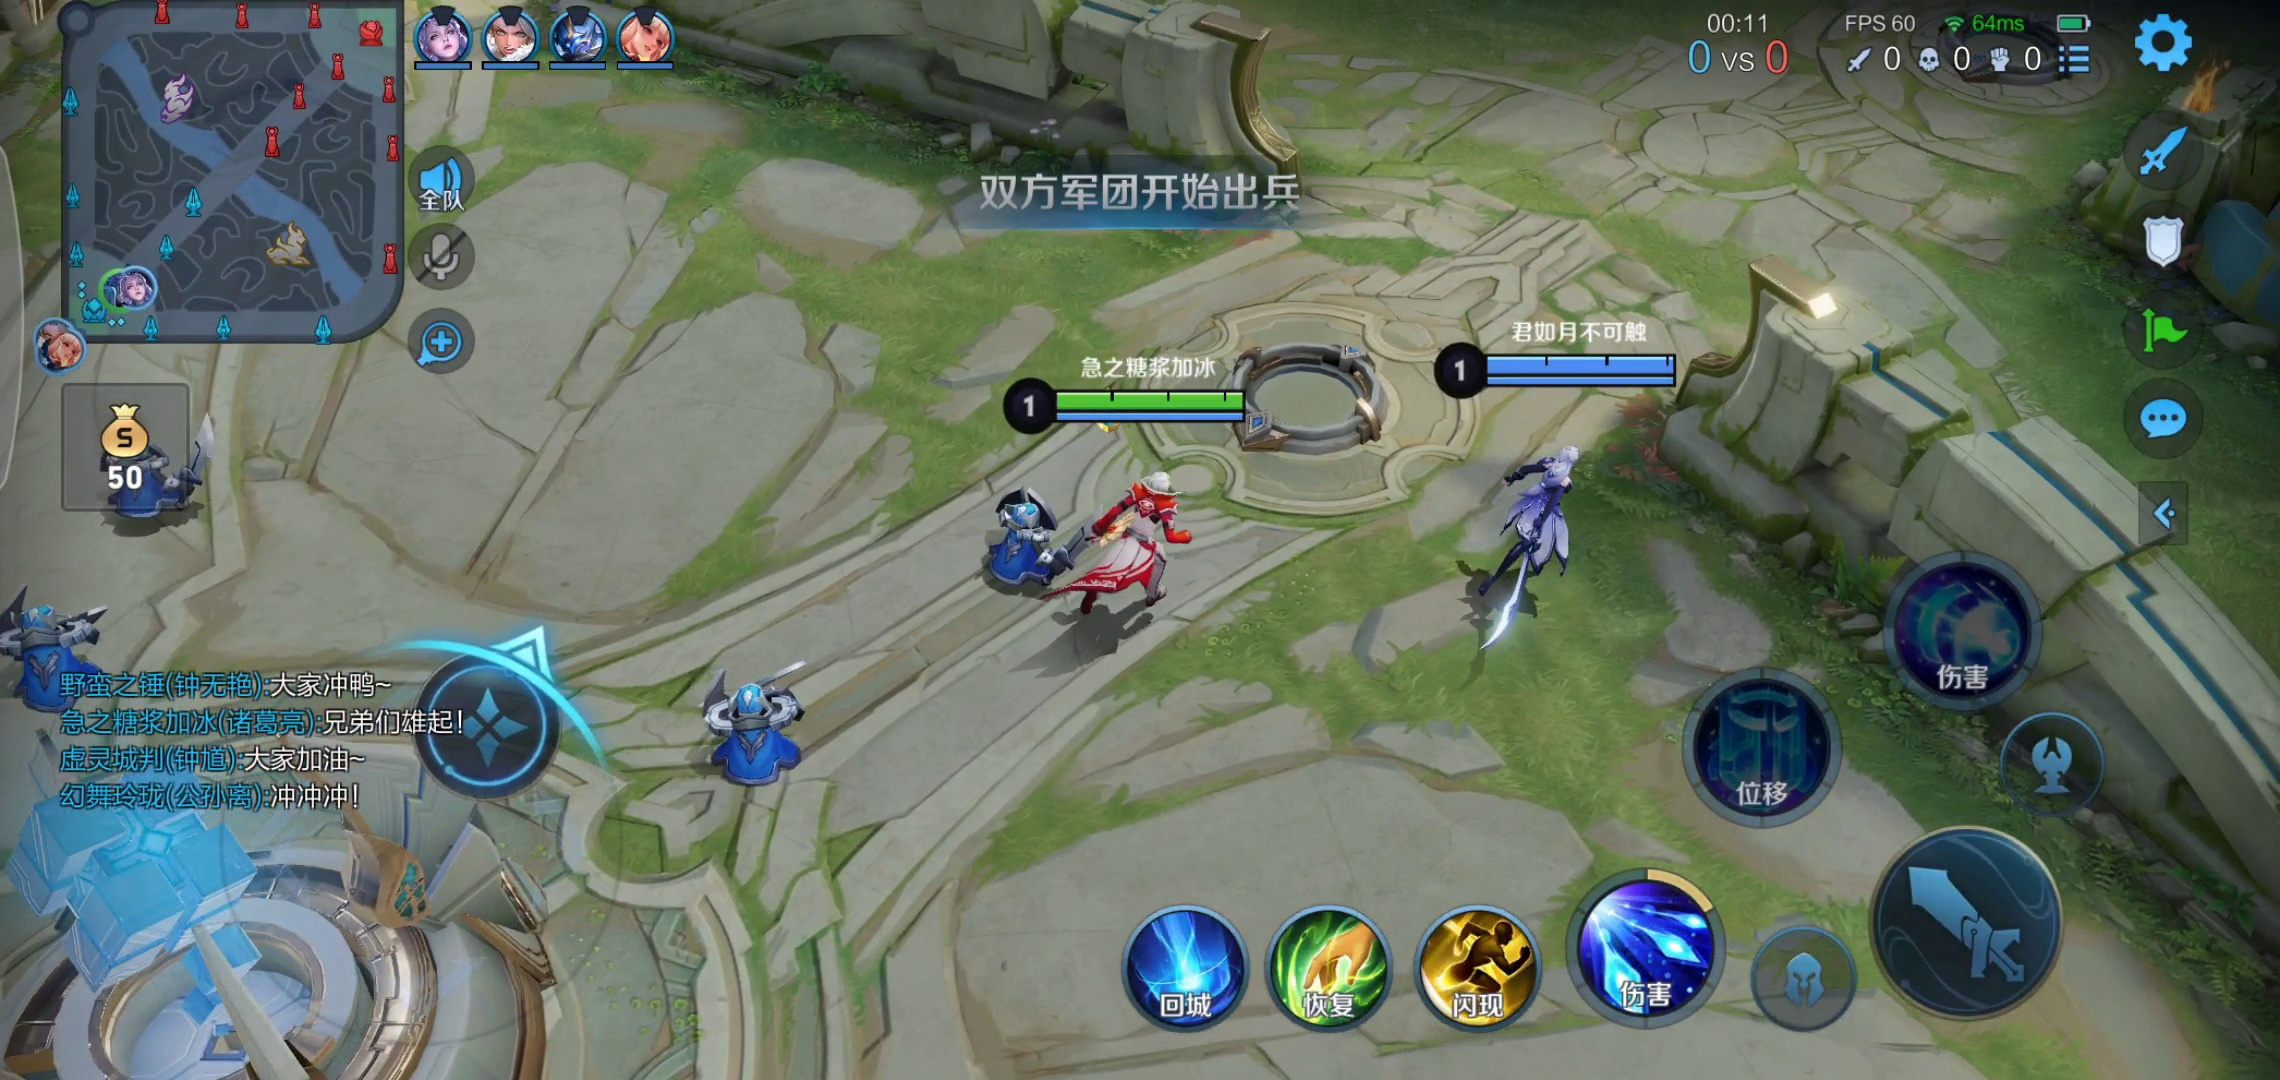crystal: (4, 765, 598, 1071)
hero: (1477, 420, 1620, 619), (1080, 481, 1205, 622)
soldier: (694, 663, 829, 781), (960, 480, 1077, 600), (65, 439, 225, 519), (1, 602, 116, 699)
tower: (1203, 330, 1412, 459), (1928, 1, 2098, 110)
